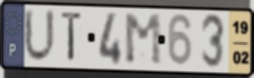3: (199, 11, 226, 73)
4: (97, 10, 124, 68)
6: (166, 12, 196, 70)
M: (123, 13, 164, 68)
T: (60, 10, 85, 65)
U: (23, 7, 58, 66)
